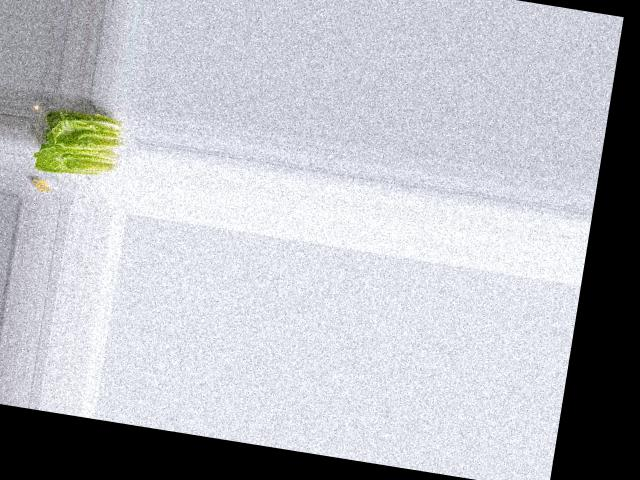lettuce: (30, 102, 128, 186)
